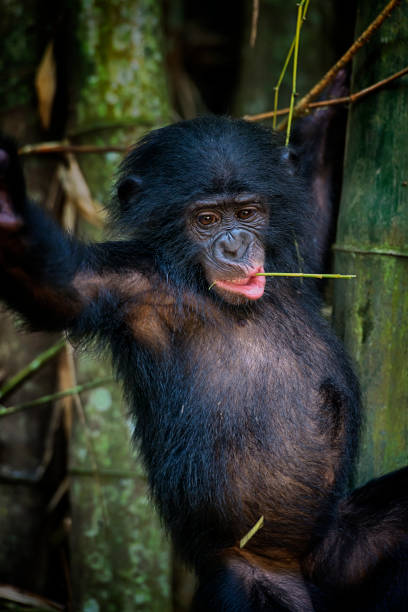chimpanzee: (83, 85, 327, 327)
